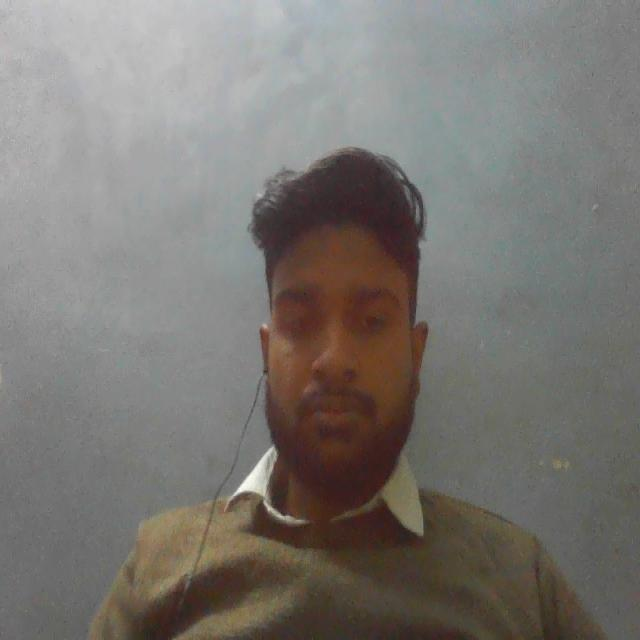real: (245, 139, 439, 505)
